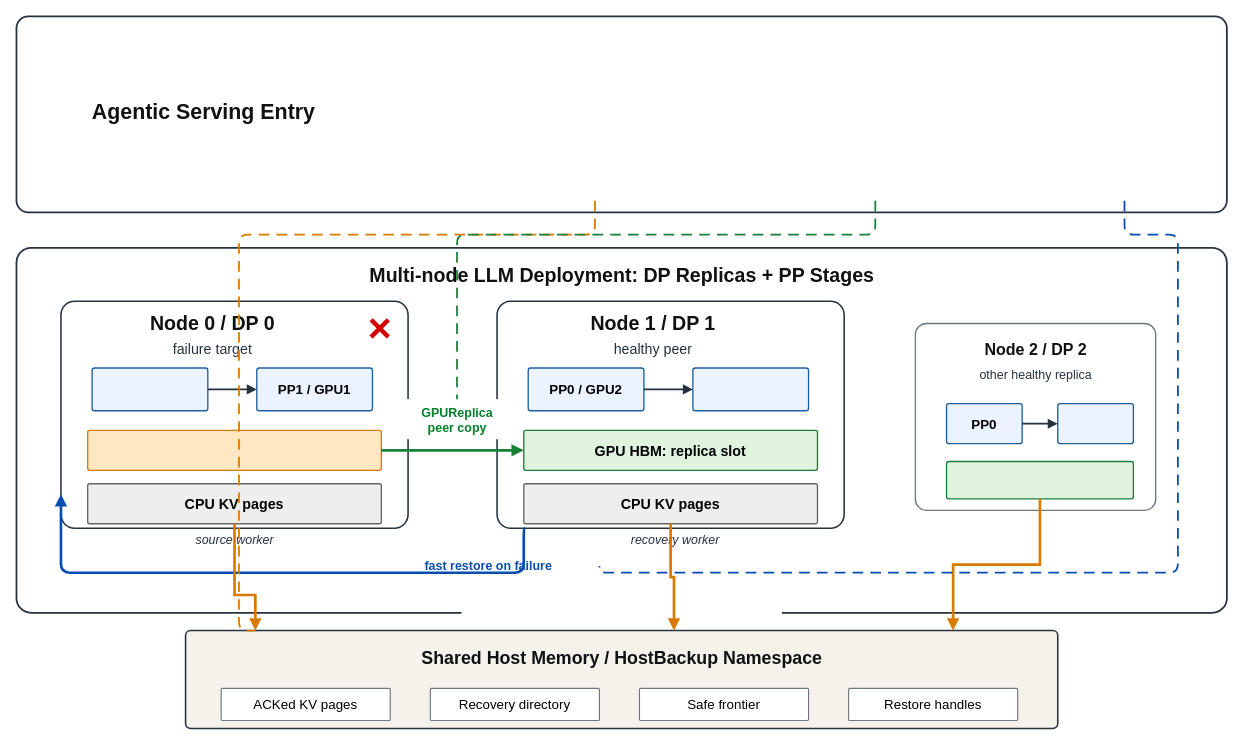
This 1242x744 diagram has some shape labels left out. The centre of each missing label's shape, as x and y in pixels:
"GPU HBM: active KV" belongs at point 234,450.
"HostBackup write-through" belongs at point 621,611.
"optional replica" belongs at point 1039,479.
"PP0 / GPU0" belongs at point 149,389.
"PP1" belongs at point 1095,423.
"PP1 / GPU3" belongs at point 750,389.
